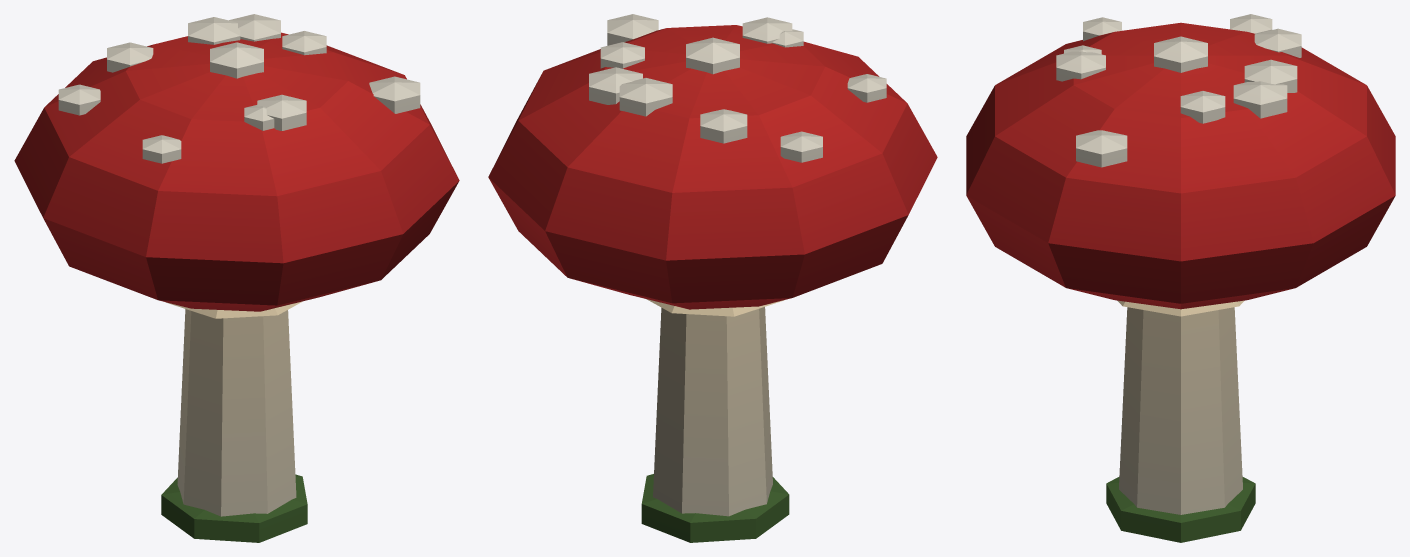
The model's file is toadstool_big.glb.
3 views of the same model, side by side, from view 1: azimuth 30°, elevation 25°; view 2: azimuth 150°, elevation 25°; view 3: azimuth 270°, elevation 25° (orthographic).
Parts seen in each view (by area): view 1: toadstool_big; view 2: toadstool_big; view 3: toadstool_big.
Boxes of the visible parts, x1,y1,x2,y2 form: toadstool_big: (14,14,459,542); toadstool_big: (488,14,937,542); toadstool_big: (966,14,1395,542).
Size of the model in its own units: 2.3 by 2.69 by 2.19.
